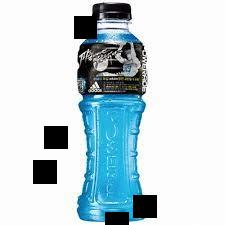powerade_mountainblast: (71, 0, 152, 222)
